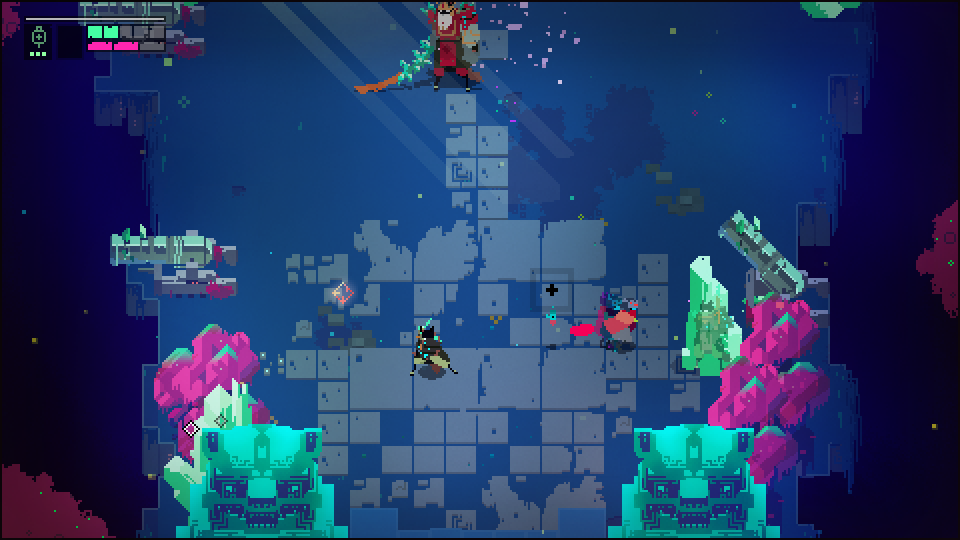hanged_man: (402, 2, 483, 90)
player: (602, 295, 638, 344)
